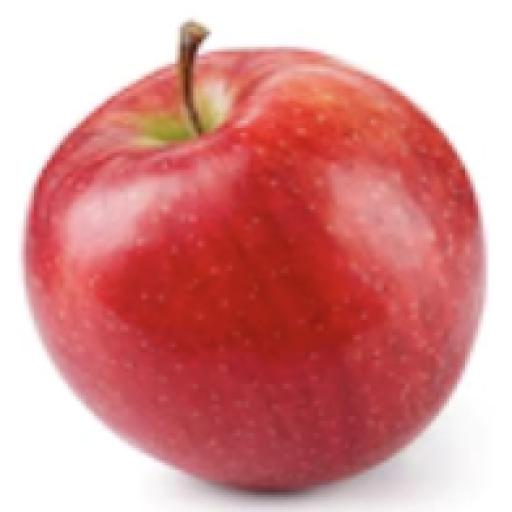apple: (27, 25, 483, 489)
